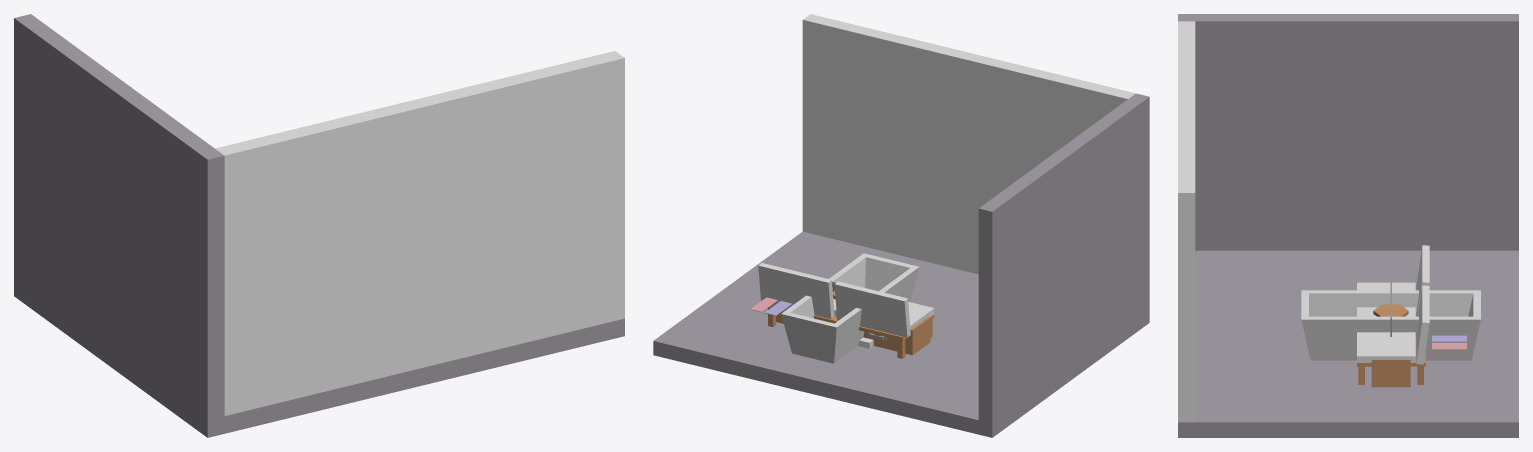
Rendered from bathroom_all_assets.fbx.
The picture shows the model from 3 angles, left to right: view 1: azimuth 30°, elevation 25°; view 2: azimuth 150°, elevation 25°; view 3: azimuth 270°, elevation 25°; orthographic projection. The views are drawn at different scales.
Visible parts, largest first — view 1: wall, floor; view 2: wall, floor, couch, bathtub, cabinet; view 3: wall, floor, bathtub, couch, cabinet, towel2, chair.
Part boxes in pixels (x1,y1,x2,y2): wall: (14,14,624,420); floor: (14,279,624,437); wall: (802,14,1149,423); floor: (653,231,1149,437); couch: (758,263,934,358); bathtub: (781,253,919,363); cabinet: (776,311,930,355); wall: (1178,14,1518,422); floor: (1178,250,1518,437); bathtub: (1301,290,1480,360); couch: (1357,245,1429,384); cabinet: (1371,360,1410,387); towel2: (1432,335,1466,360); chair: (1373,304,1408,316).
Size of the model in its own units: 1236 by 834 by 993.
